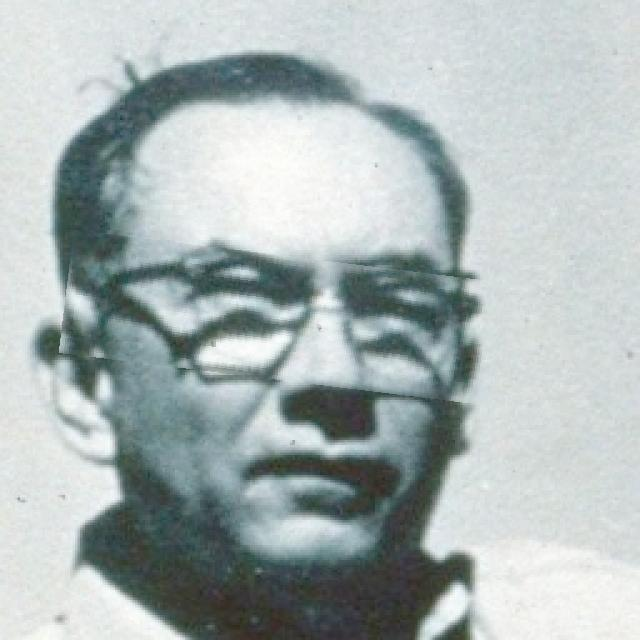glasses: (62, 243, 504, 393)
